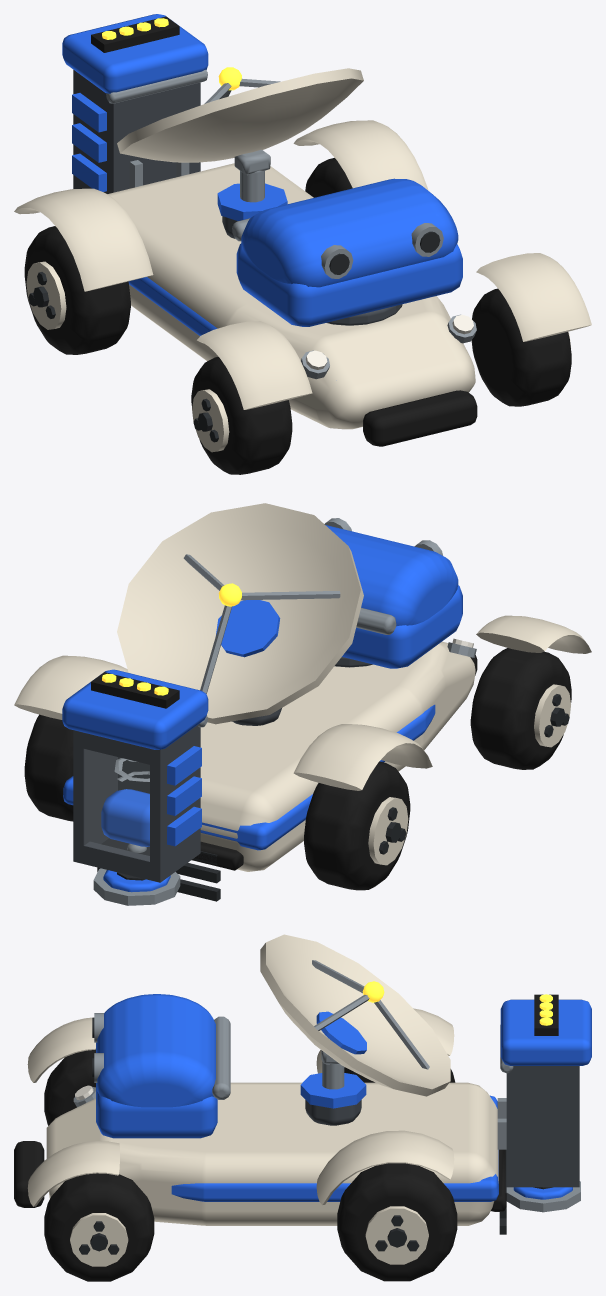
File: geological_surveyor.glb
3 views of the same model, one above another, from view 1: azimuth 30°, elevation 25°; view 2: azimuth 150°, elevation 25°; view 3: azimuth 270°, elevation 25° (orthographic). The views are drawn at different scales.
Visible parts, largest first — view 1: hull__M_CreamPlastic, cab_head__M_Team, sv_bowl__M_CreamPlastic, wing_r1__M_CreamPlastic, wheel_l0__M_Licorice, hull__M_SmokePlastic, wheel_r1__M_Licorice, sv_cap__M_Team, steer_r0__M_CreamPlastic, steer_l0__M_CreamPlastic, wheel_r0__M_Licorice, hull__M_Team (+13 smaller); view 2: sv_bowl__M_CreamPlastic, hull__M_CreamPlastic, hull__M_SmokePlastic, cab_head__M_Team, wheel_r0__M_Licorice, wheel_r1__M_Licorice, sv_cap__M_Team, hull__M_ClearGlass, wing_r1__M_CreamPlastic, hull__M_Team, wheel_l1__M_Licorice, wing_l1__M_CreamPlastic (+13 smaller); view 3: hull__M_CreamPlastic, cab_head__M_Team, sv_bowl__M_CreamPlastic, hull__M_SmokePlastic, wheel_l1__M_Licorice, wheel_l0__M_Licorice, hull__M_Team, sv_cap__M_Team, wing_l1__M_CreamPlastic, steer_l0__M_CreamPlastic, wheel_l1__M_CreamPlastic, wheel_r0__M_Licorice (+14 smaller).
Part boxes in pixels (box(x1,y1,x2,y2)): hull__M_CreamPlastic: box(108, 163, 475, 429); cab_head__M_Team: box(236, 178, 462, 326); sv_bowl__M_CreamPlastic: box(117, 68, 363, 162); wing_r1__M_CreamPlastic: box(14, 188, 153, 291); wheel_l0__M_Licorice: box(471, 288, 571, 406); hull__M_SmokePlastic: box(73, 70, 402, 325); wheel_r1__M_Licorice: box(24, 226, 130, 354); sv_cap__M_Team: box(62, 14, 208, 93); steer_r0__M_CreamPlastic: box(197, 321, 312, 409); steer_l0__M_CreamPlastic: box(476, 253, 591, 341); wheel_r0__M_Licorice: box(191, 356, 292, 474); hull__M_Team: box(72, 93, 287, 335); sv_bowl__M_CreamPlastic: box(117, 503, 363, 724); hull__M_CreamPlastic: box(200, 641, 475, 871); hull__M_SmokePlastic: box(73, 657, 372, 882); cab_head__M_Team: box(325, 525, 462, 668); wheel_r0__M_Licorice: box(470, 648, 571, 769); wheel_r1__M_Licorice: box(304, 761, 410, 890); sv_cap__M_Team: box(62, 669, 208, 749); hull__M_ClearGlass: box(85, 750, 149, 860); wing_r1__M_CreamPlastic: box(293, 724, 432, 790); hull__M_Team: box(63, 704, 435, 850); wheel_l1__M_Licorice: box(24, 714, 73, 821); wing_l1__M_CreamPlastic: box(14, 655, 128, 719); hull__M_CreamPlastic: box(46, 1082, 498, 1225); cab_head__M_Team: box(96, 994, 217, 1138); sv_bowl__M_CreamPlastic: box(260, 934, 450, 1096); hull__M_SmokePlastic: box(305, 1066, 579, 1187); wheel_l1__M_Licorice: box(337, 1163, 457, 1281); wheel_l0__M_Licorice: box(44, 1173, 154, 1281); hull__M_Team: box(171, 1073, 498, 1201); sv_cap__M_Team: box(500, 999, 591, 1065); wing_l1__M_CreamPlastic: box(316, 1130, 454, 1204); steer_l0__M_CreamPlastic: box(27, 1141, 119, 1206); wheel_l1__M_CreamPlastic: box(365, 1206, 428, 1264); wheel_r0__M_Licorice: box(44, 1049, 95, 1125).
Size of the model in its own units: 0.616 by 0.4721 by 0.95.
